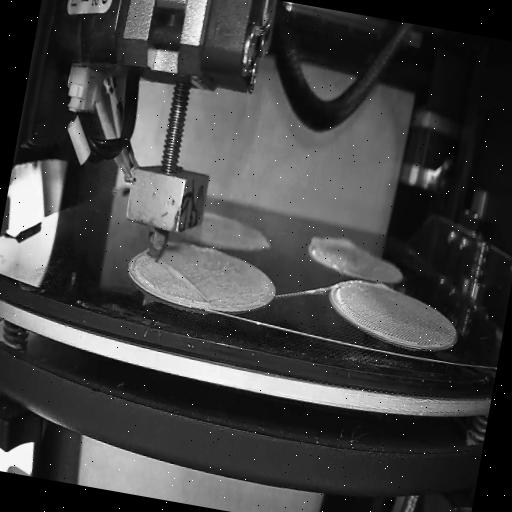over_extrusion: (154, 256, 214, 301), (304, 228, 360, 260), (370, 279, 396, 293)
